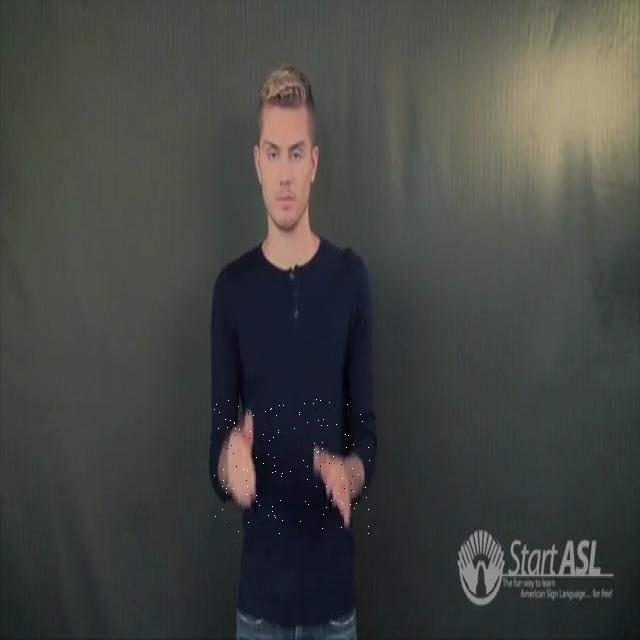manager: (214, 399, 370, 534)
